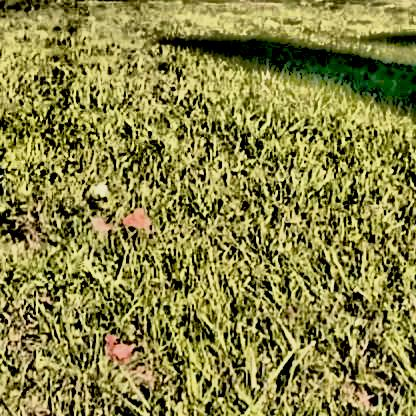golfball: (90, 180, 107, 195)
